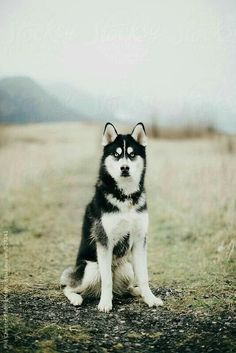husky: (58, 110, 167, 315)
